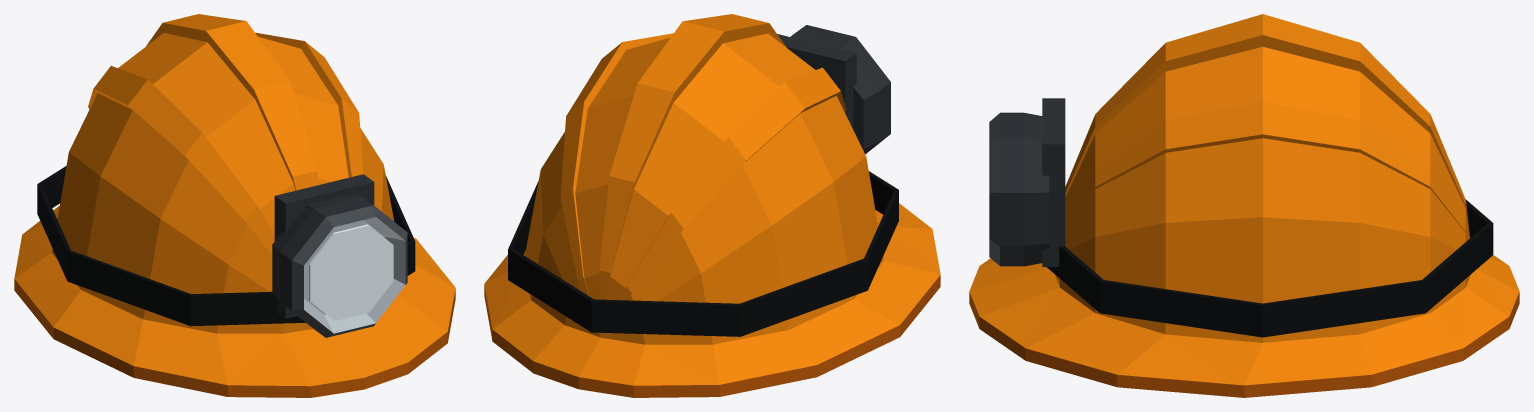
File: Mining Helmet.obj
3 renders of one model, left to right at view 1: azimuth 30°, elevation 25°; view 2: azimuth 150°, elevation 25°; view 3: azimuth 270°, elevation 25°, orthographic. The views are drawn at different scales.
Visible parts, largest first — view 1: Mining_Helmet.Static; view 2: Mining_Helmet.Static; view 3: Mining_Helmet.Static.
Boxes of the visible parts, left/top/right/bottom form: Mining_Helmet.Static: left=14, top=14, right=455, bottom=397; Mining_Helmet.Static: left=484, top=14, right=940, bottom=397; Mining_Helmet.Static: left=969, top=14, right=1519, bottom=397.
Bounding box in the file's own units: 0.4103 × 0.2837 × 0.5065.
